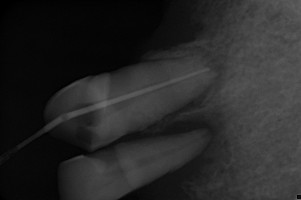Dental Caries: (145, 112, 231, 186), (169, 47, 227, 114)
